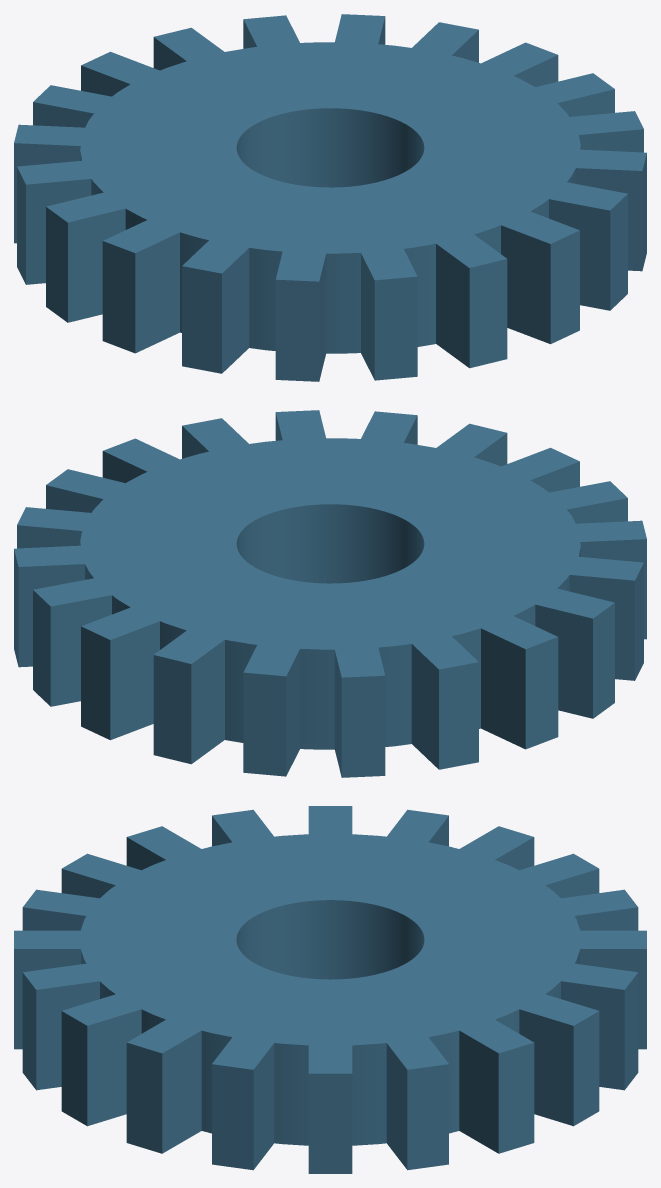
The model's file is gear.glb.
3 views of the same model, one above another, from view 1: azimuth 30°, elevation 25°; view 2: azimuth 150°, elevation 25°; view 3: azimuth 270°, elevation 25° (orthographic).
Visible parts, largest first — view 1: 轮体, 轮齿 12, 轮齿 17, 轮齿 16, 轮齿 13, 轮齿 11, 轮齿 18, 轮齿 15, 轮齿 14, 轮齿 10, 轮齿 19, 轮齿 9 (+9 smaller); view 2: 轮体, 轮齿 10, 轮齿 5, 轮齿 6, 轮齿 9, 轮齿 11, 轮齿 7, 轮齿 4, 轮齿 8, 轮齿 12, 轮齿 3, 轮齿 13 (+9 smaller); view 3: 轮体, 轮齿 19, 轮齿 3, 轮齿 4, 轮齿 18, 轮齿 20, 轮齿 2, 轮齿 17, 轮齿 1, 轮齿 5, 轮齿 6, 轮齿 16 (+9 smaller).
Boxes of the visible parts, x1,y1,x2,y2 form: 轮体: (80,42,580,353); 轮齿 12: (102,220,179,353); 轮齿 17: (484,204,579,344); 轮齿 16: (423,225,507,368); 轮齿 13: (182,230,255,373); 轮齿 11: (46,187,142,322); 轮齿 18: (525,178,627,310); 轮齿 15: (356,238,417,380); 轮齿 14: (275,240,328,381); 轮齿 10: (17,158,116,284); 轮齿 19: (549,148,646,271); 轮齿 9: (14,124,110,243); 轮体: (80,438,580,749); 轮齿 10: (465,612,558,749); 轮齿 5: (81,600,172,740); 轮齿 6: (153,621,232,764); 轮齿 9: (402,626,478,769); 轮齿 11: (512,583,614,718); 轮齿 7: (243,634,303,776); 轮齿 4: (33,574,135,706); 轮齿 8: (332,636,385,777); 轮齿 12: (543,554,643,680); 轮齿 3: (14,545,105,667); 轮齿 13: (549,520,646,639); 轮体: (80,834,580,1145); 轮齿 19: (126,1010,216,1153); 轮齿 3: (444,1010,534,1153); 轮齿 4: (500,988,599,1126); 轮齿 18: (61,994,141,1126); 轮齿 20: (212,1026,281,1170); 轮齿 2: (382,1026,448,1170); 轮齿 17: (22,960,120,1090); 轮齿 1: (308,1033,352,1173); 轮齿 5: (545,960,638,1090); 轮齿 6: (553,930,646,1049); 轮齿 16: (14,930,107,1049).
Size of the model in its own units: 0.2 by 0.035 by 0.2.
